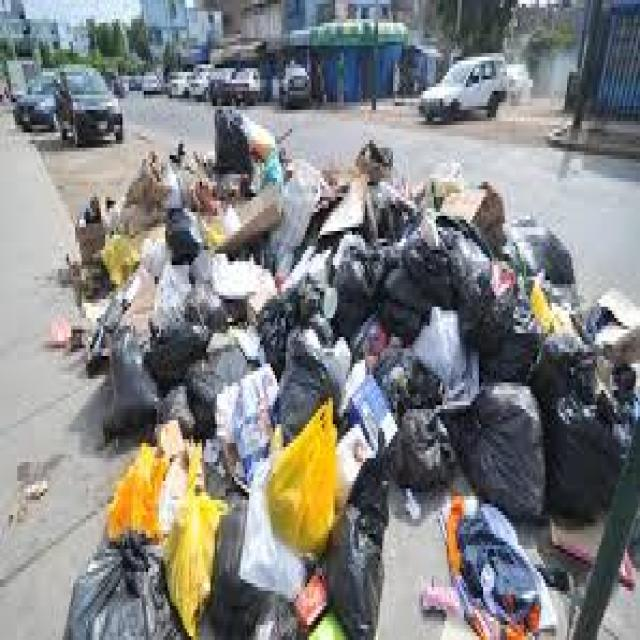garbage: (40, 107, 640, 640)
